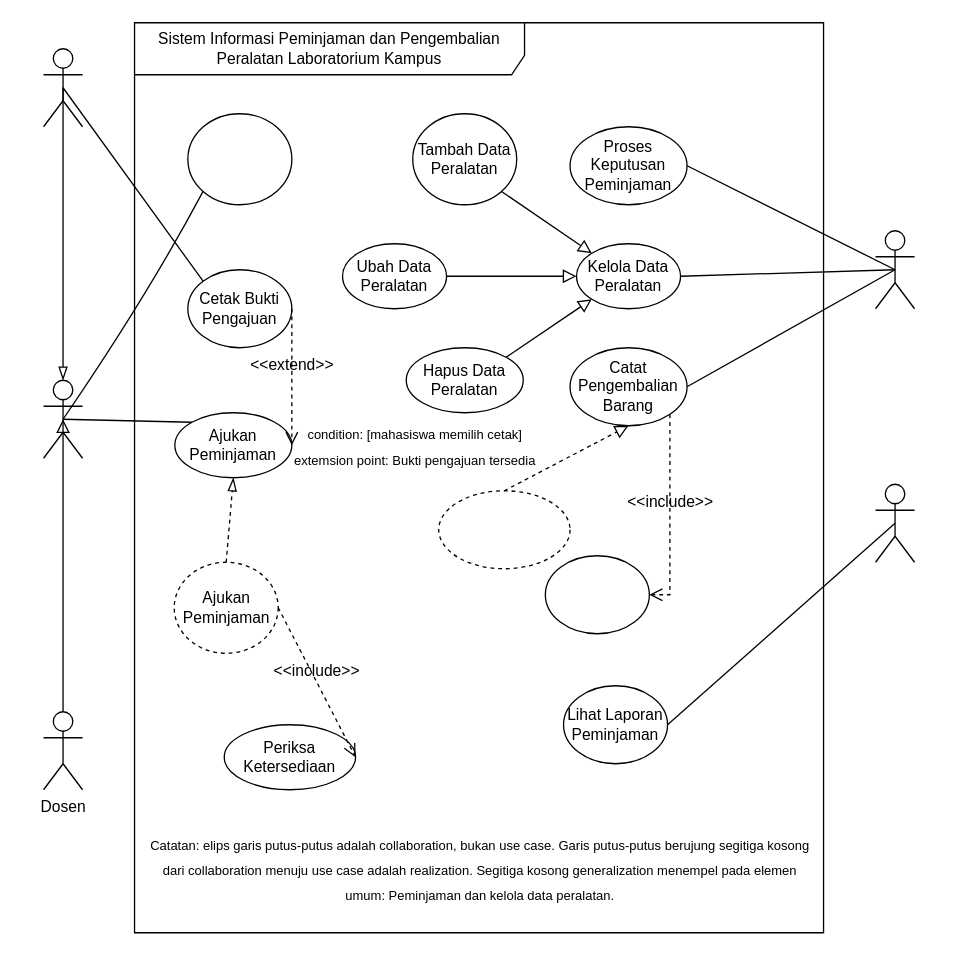
Image size: 976x955. Some labels were removed from this diagram. Each missing label, with the centre of its shape:
"Aktor umum dan aktor khusus" goes at point (503, 529).
"Kepala Laboran" goes at point (894, 522).
"Lihat Ketersediaan Peralatan" goes at point (239, 158).
"Mahasiiswa" goes at point (62, 87).
"Peminjam" goes at point (62, 418).
"Periksa Kondisi Peralatan" goes at point (596, 594).
"Petugas Laboran" goes at point (894, 269).
